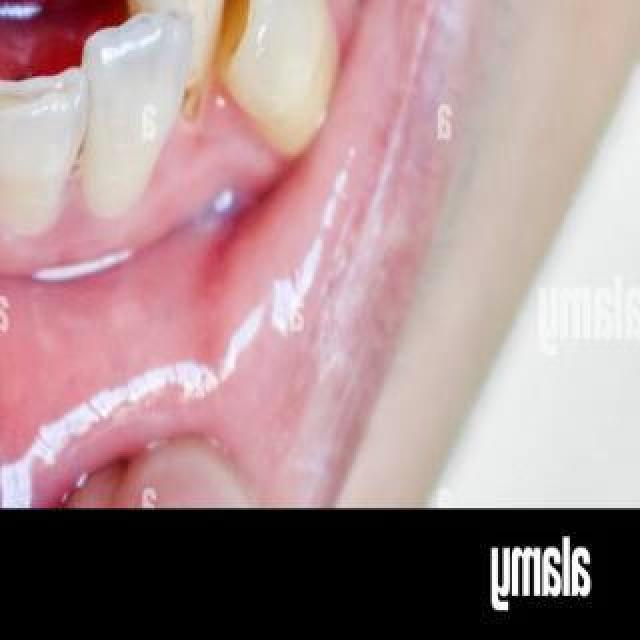maligned: (62, 0, 204, 202), (0, 36, 88, 202), (94, 0, 244, 70), (0, 0, 4, 172)
